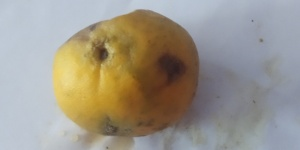BAD: (48, 10, 202, 136)
